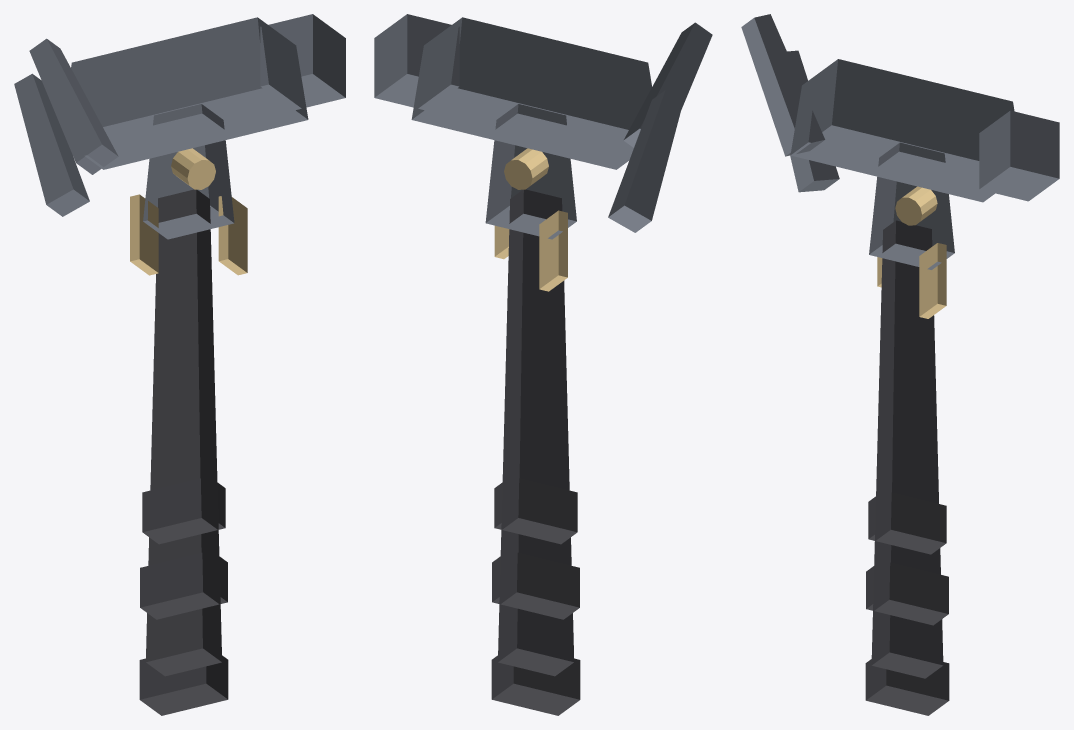
The model's file is hero-claw-hammer.glb.
3 renders of one model, left to right at view 1: azimuth 30°, elevation 25°; view 2: azimuth 150°, elevation 25°; view 3: azimuth 330°, elevation 25°, orthographic. The views are drawn at different scales.
Parts seen in each view (by area): view 1: rubber_handle, blackened_steel_head_core, blackened_steel_claw_lower, blackened_steel_neck, blackened_steel_claw_upper, blackened_steel_face, rubber_grip_lower_band, rubber_grip_upper_band, rubber_grip_cap, brass_cheek_plate_right, brass_cheek_plate_left, brass_neck_wedge; view 2: blackened_steel_head_core, rubber_handle, blackened_steel_claw_lower, blackened_steel_neck, blackened_steel_face, rubber_grip_lower_band, rubber_grip_upper_band, rubber_grip_cap, blackened_steel_claw_upper, brass_cheek_plate_right, brass_neck_wedge; view 3: rubber_handle, blackened_steel_head_core, blackened_steel_face, blackened_steel_claw_upper, blackened_steel_neck, rubber_grip_lower_band, rubber_grip_upper_band, rubber_grip_cap, brass_cheek_plate_left, blackened_steel_claw_lower, brass_neck_wedge.
Boxes of the visible parts, x1,y1,x2,y2 form: rubber_handle: [145, 189, 222, 676]; blackened_steel_head_core: [71, 17, 308, 169]; blackened_steel_claw_lower: [14, 73, 89, 216]; blackened_steel_neck: [143, 104, 234, 239]; blackened_steel_claw_upper: [29, 38, 118, 174]; blackened_steel_face: [260, 14, 345, 110]; rubber_grip_lower_band: [140, 553, 227, 619]; rubber_grip_upper_band: [142, 478, 225, 544]; rubber_grip_cap: [139, 655, 228, 715]; brass_cheek_plate_right: [130, 194, 158, 275]; brass_cheek_plate_left: [218, 196, 247, 275]; brass_neck_wedge: [171, 148, 215, 189]; blackened_steel_head_core: [411, 17, 651, 169]; rubber_handle: [498, 189, 574, 676]; blackened_steel_claw_lower: [608, 90, 683, 232]; blackened_steel_neck: [485, 104, 576, 239]; blackened_steel_face: [374, 14, 459, 110]; rubber_grip_lower_band: [492, 552, 579, 619]; rubber_grip_upper_band: [494, 478, 577, 544]; rubber_grip_cap: [491, 655, 580, 715]; blackened_steel_claw_upper: [623, 22, 712, 147]; brass_cheek_plate_right: [539, 210, 567, 291]; brass_neck_wedge: [504, 148, 548, 189]; rubber_handle: [871, 220, 943, 678]; blackened_steel_head_core: [790, 59, 1014, 202]; blackened_steel_face: [979, 110, 1059, 201]; blackened_steel_claw_upper: [741, 14, 825, 156]; blackened_steel_neck: [869, 142, 954, 269]; rubber_grip_lower_band: [866, 562, 948, 625]; rubber_grip_upper_band: [868, 492, 946, 554]; rubber_grip_cap: [865, 659, 949, 715]; brass_cheek_plate_left: [919, 243, 946, 318]; blackened_steel_claw_lower: [787, 50, 839, 192]; brass_neck_wedge: [895, 186, 937, 225].
Size of the model in its own units: 1.28 by 2.8 by 0.32.
